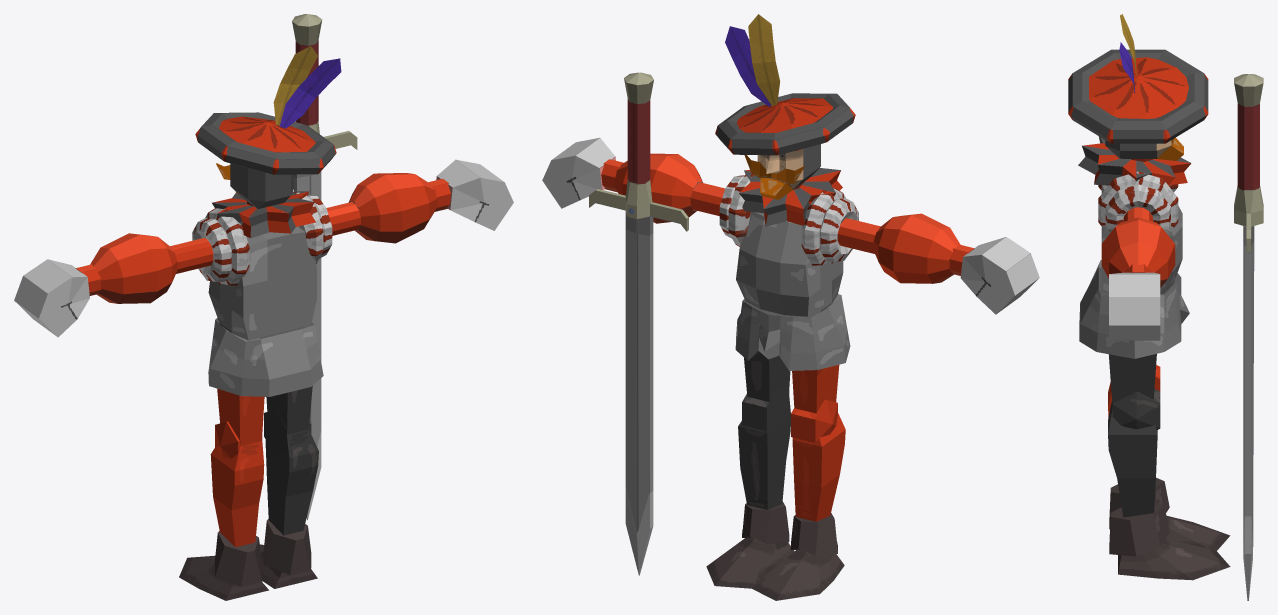
The model's file is mercenary.fbx.
3 views of the same model, side by side, from view 1: azimuth 30°, elevation 25°; view 2: azimuth 150°, elevation 25°; view 3: azimuth 270°, elevation 25° (orthographic). The views are drawn at different scales.
Visible parts, largest first — view 1: Chest, Tasset, Forearm, forearm_r, shin_l, shin_r, rim, Hand, Hand_1, Collar, hatbase, Blade (+17 smaller); view 2: Blade, Chest, Tasset, Handle, Forearm, rim, Hand, shin_l, shin_r, Hand_1, shoe_l, Collar (+18 smaller); view 3: rim, hatbase, Tasset, Handle, shin_r, Blade, Hand_1, forearm_r, shoe_r, Collar, ankle_r, Shoulder_r2 (+10 smaller).
Part boxes in pixels (box(x1,y1,x2,y2)): Chest: box(208, 226, 316, 340); Tasset: box(208, 318, 323, 396); Forearm: box(90, 233, 177, 303); forearm_r: box(348, 173, 437, 243); shin_l: box(210, 441, 264, 547); shin_r: box(265, 429, 318, 535); rim: box(195, 112, 336, 174); Hand: box(14, 259, 89, 337); Hand_1: box(436, 159, 513, 230); Collar: box(212, 191, 315, 238); hatbase: box(219, 116, 315, 168); Blade: box(293, 171, 321, 520); Blade: box(625, 211, 653, 575); Chest: box(736, 212, 843, 316); Tasset: box(735, 294, 850, 370); Handle: box(589, 72, 688, 231); Forearm: box(873, 213, 960, 283); rim: box(715, 93, 855, 155); Hand: box(960, 237, 1039, 314); shin_l: box(792, 413, 845, 521); shin_r: box(738, 398, 790, 509); Hand_1: box(542, 137, 615, 208); shoe_l: box(752, 549, 844, 600); Collar: box(739, 168, 842, 226); rim: box(1068, 49, 1208, 143); hatbase: box(1089, 57, 1188, 118); Tasset: box(1079, 260, 1189, 358); Handle: box(1234, 74, 1263, 252); shin_r: box(1108, 401, 1157, 517); Blade: box(1243, 226, 1254, 600); Hand_1: box(1109, 272, 1160, 340); forearm_r: box(1101, 217, 1175, 287); shoe_r: box(1118, 539, 1230, 580); Collar: box(1078, 136, 1191, 186); ankle_r: box(1109, 502, 1169, 556); Shoulder_r2: box(1105, 184, 1170, 232).
Bounding box in the file's own units: 485 × 521 × 166.
3 materials, 3 textured.
